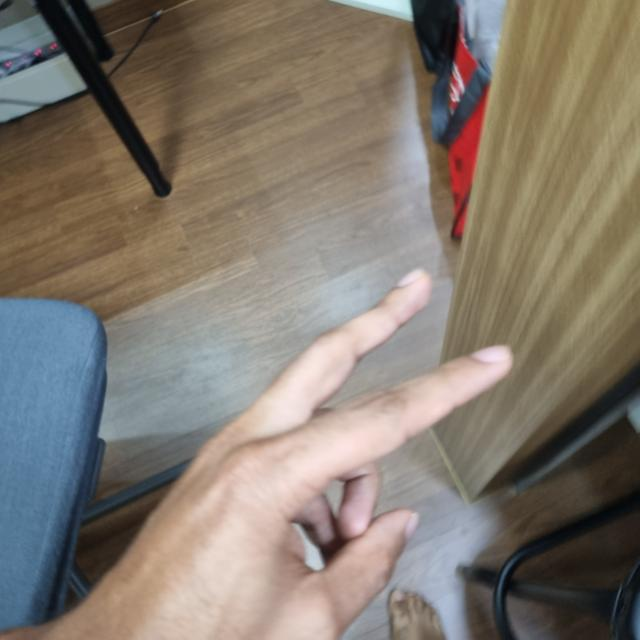Scissors: (7, 274, 512, 638)
